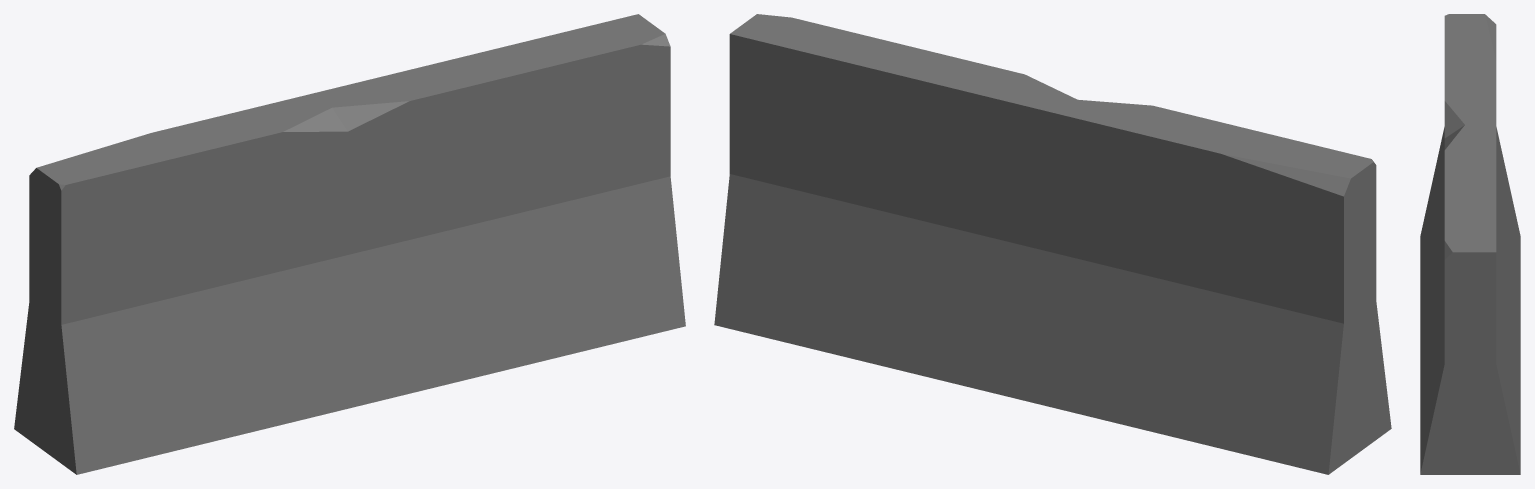
Rendered from RoadPart_02.fbx.
3 views of the same model, side by side, from view 1: azimuth 30°, elevation 25°; view 2: azimuth 150°, elevation 25°; view 3: azimuth 270°, elevation 25° (orthographic). The views are drawn at different scales.
Visible parts, largest first — view 1: RoadPart_02; view 2: RoadPart_02; view 3: RoadPart_02.
Boxes of the visible parts, x1,y1,x2,y2 form: RoadPart_02: (14, 14, 685, 474); RoadPart_02: (714, 14, 1391, 474); RoadPart_02: (1420, 14, 1520, 474).
Size of the model in its own units: 150 by 65.33 by 26.71.
